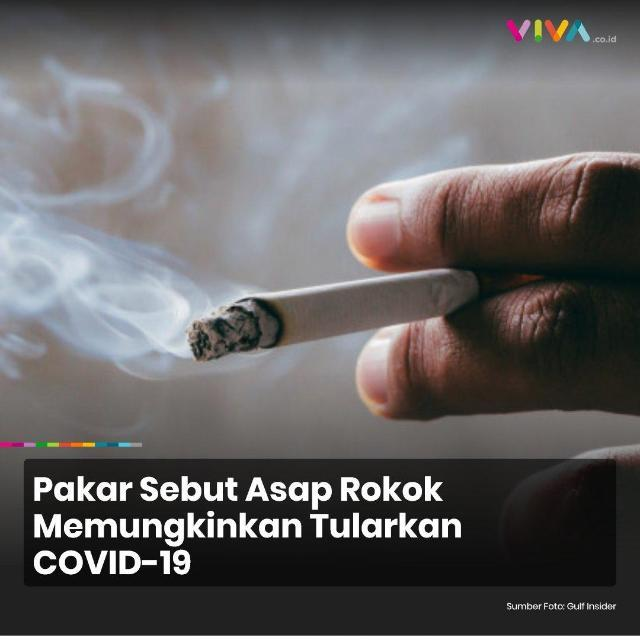rokok: (182, 262, 486, 374)
